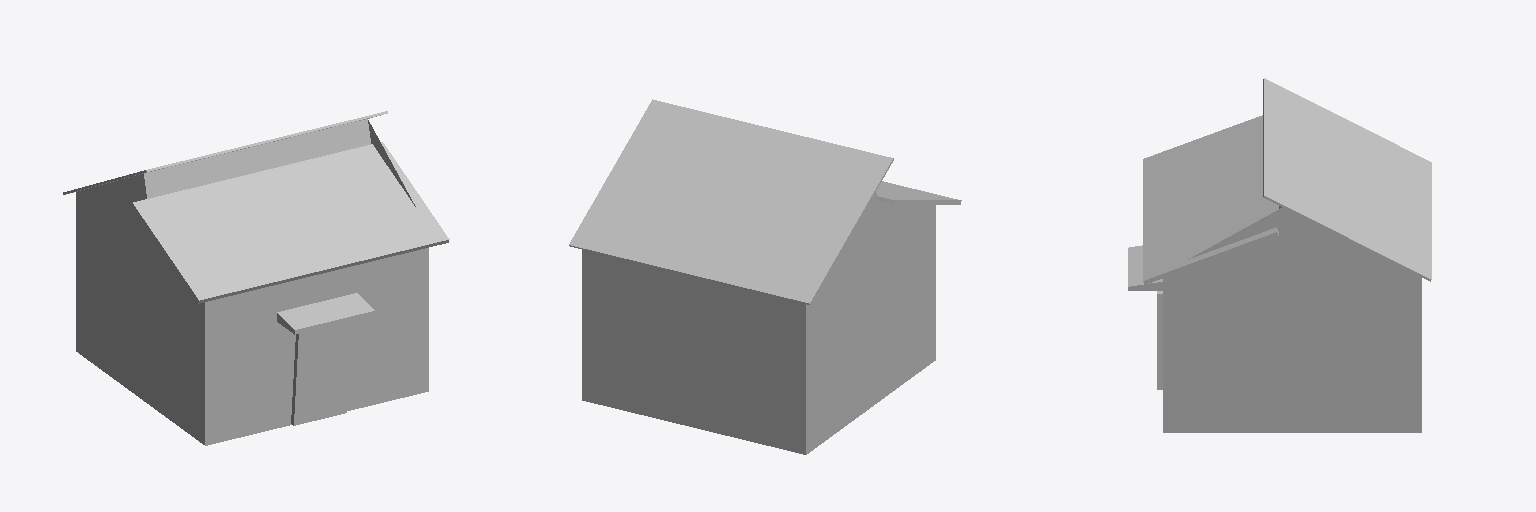
The model's file is Small_House.obj.
3 views of the same model, side by side, from view 1: azimuth 30°, elevation 25°; view 2: azimuth 150°, elevation 25°; view 3: azimuth 270°, elevation 25° (orthographic).
Visible parts, largest first — view 1: Box; view 2: Box; view 3: Box.
Part boxes in pixels (bbox=[...]): Box: bbox=[63, 111, 449, 445]; Box: bbox=[569, 99, 961, 454]; Box: bbox=[1128, 78, 1431, 432].
Size of the model in its own units: 3.35 by 3.09 by 3.52.